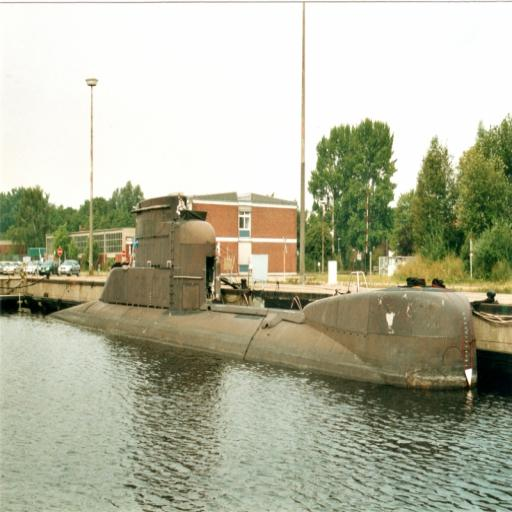submarine: (47, 191, 482, 385)
